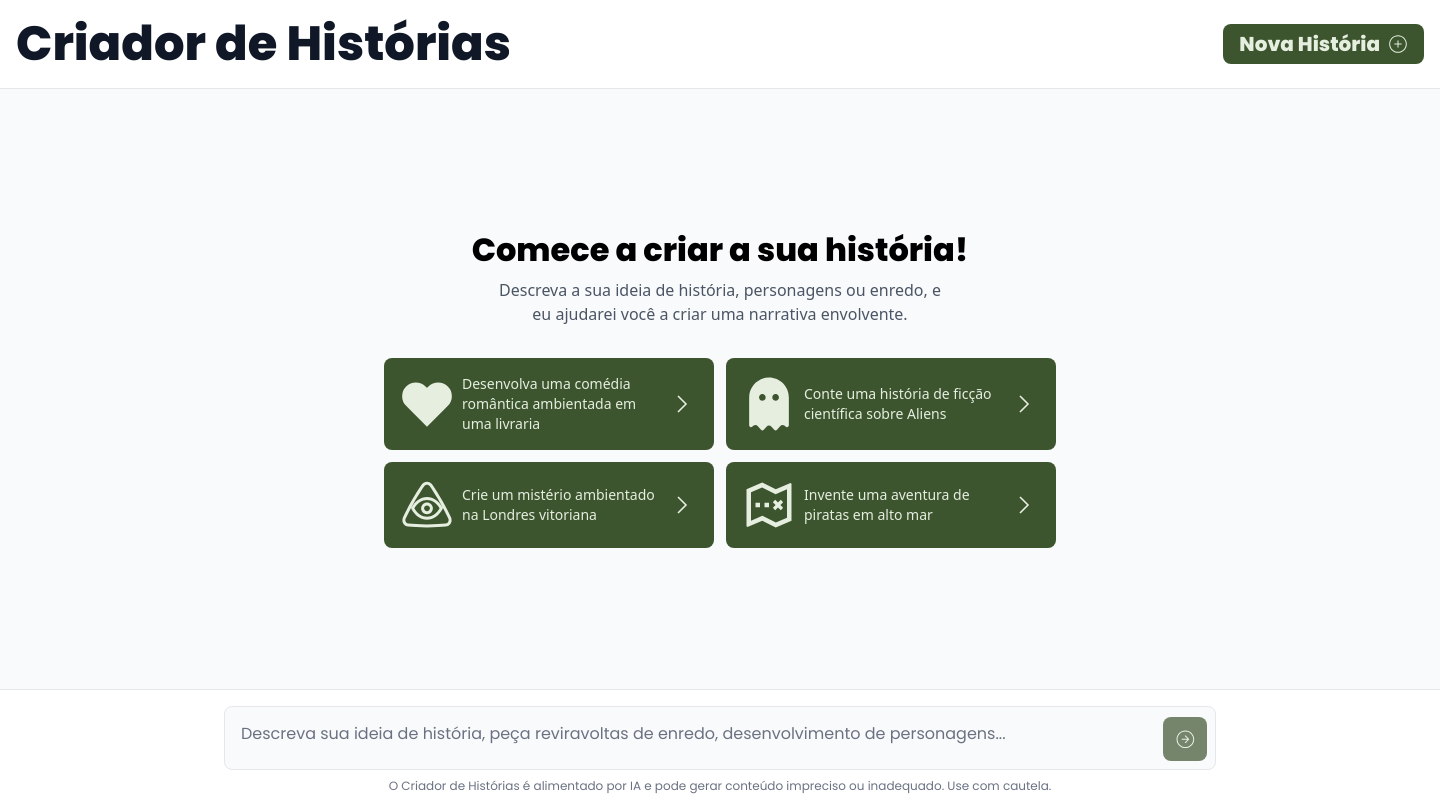
it: CreateStory › deve desabilitar input e botão durante carregamento
In the text box with placeholder "Descreva sua ideia de história": {"x": 694, "y": 735} [233,715,1155,755], type "Teste"
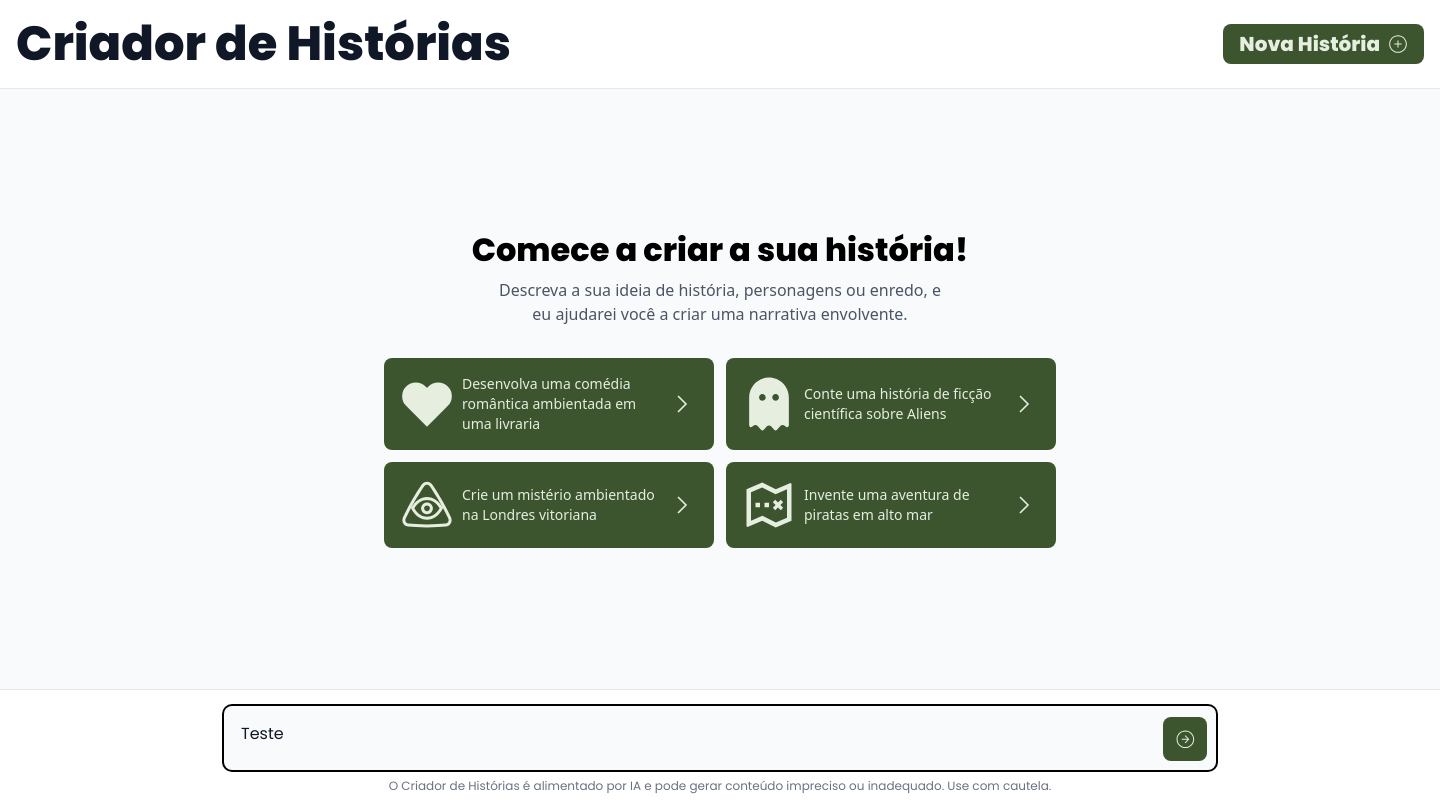
Click the button named "enviar mensagem": {"x": 1185, "y": 739} [1163,717,1207,761]
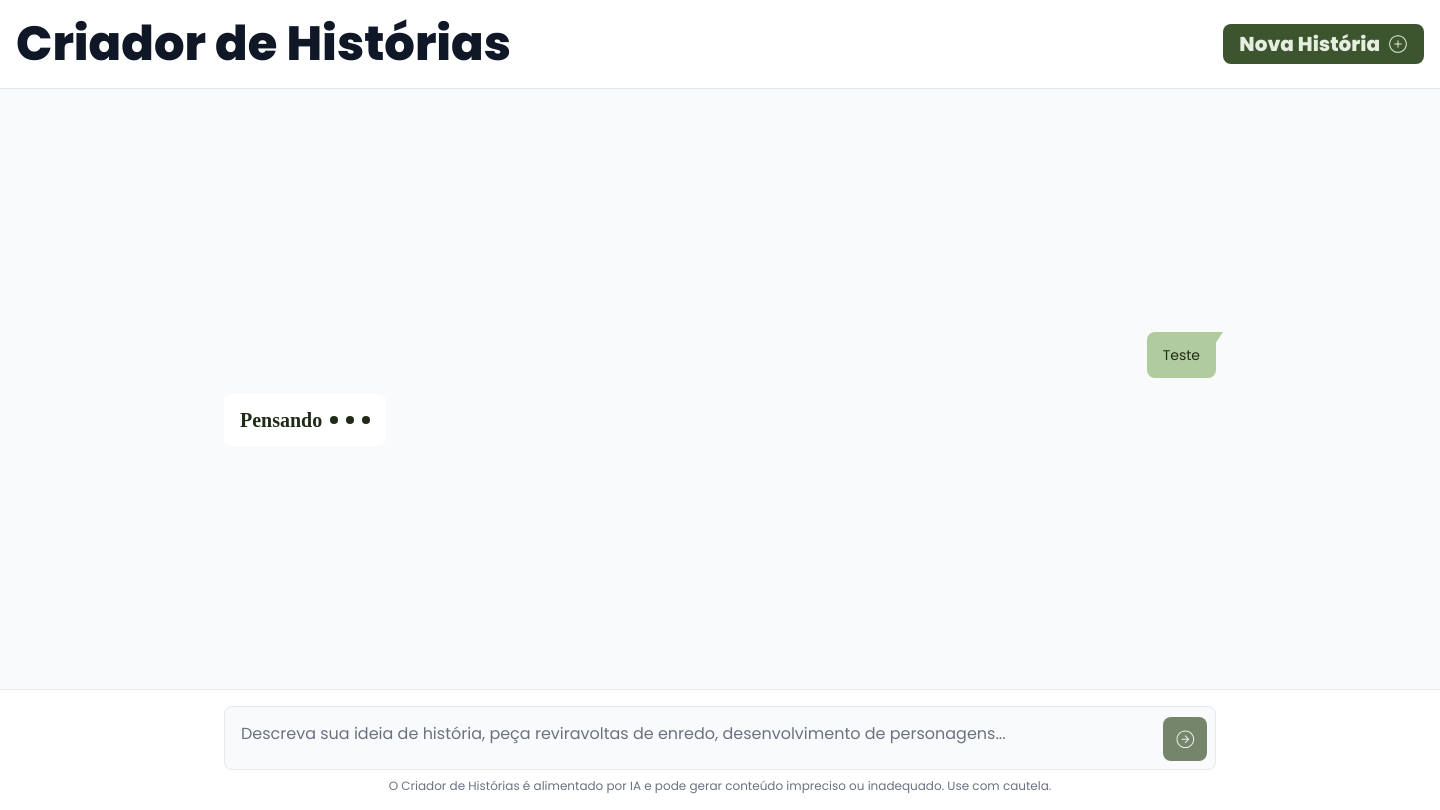
Result: the text "Pensando" is shown at [240,406,322,434]
Result: the text box with placeholder "Descreva sua ideia de história" is disabled at [233,715,1155,755]
